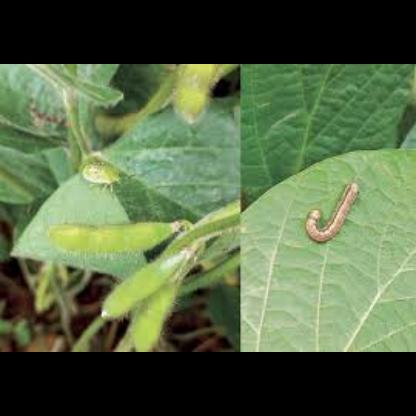oruga: (298, 178, 370, 244)
